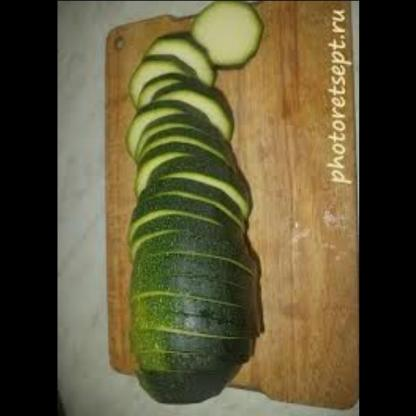vegetable marrow: (122, 26, 263, 406), (180, 0, 267, 71)
